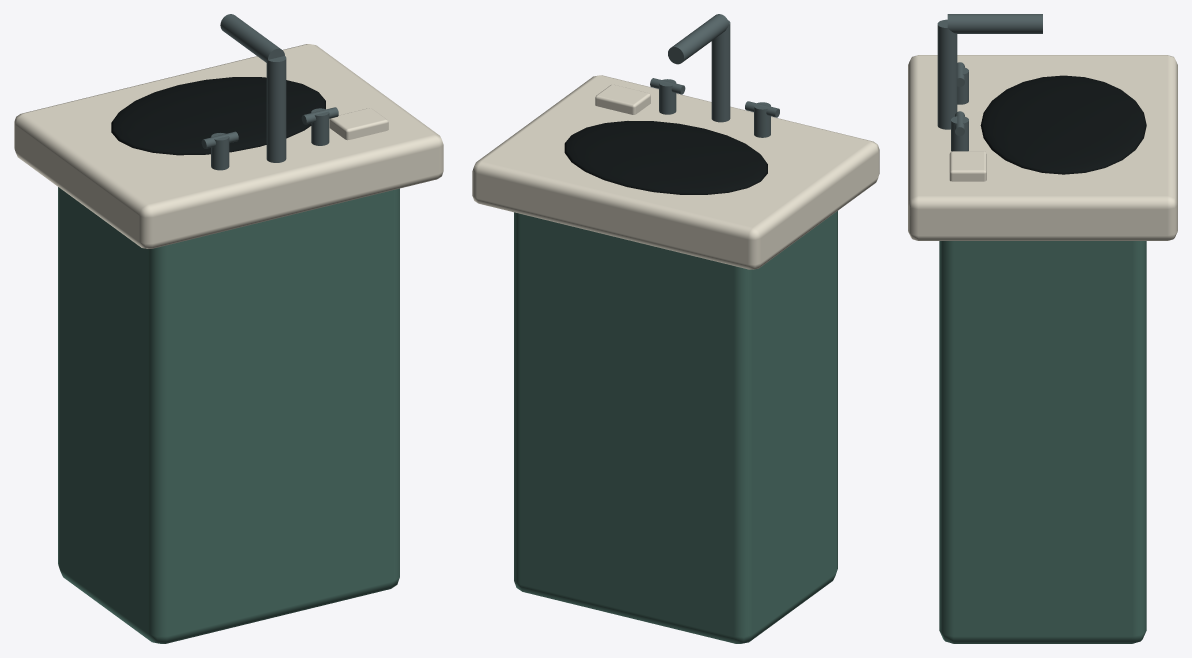
File: Sink.obj
3 renders of one model, left to right at view 1: azimuth 30°, elevation 25°; view 2: azimuth 150°, elevation 25°; view 3: azimuth 270°, elevation 25°, orthographic. The views are drawn at different scales.
Visible parts, largest first — view 1: Sink; view 2: Sink; view 3: Sink.
Part boxes in pixels (left/top/right/bottom): Sink: left=14, top=14, right=443, bottom=643; Sink: left=472, top=14, right=879, bottom=643; Sink: left=908, top=14, right=1177, bottom=643.
Bounding box in the file's own units: 0.85 × 1.52 × 0.65.
